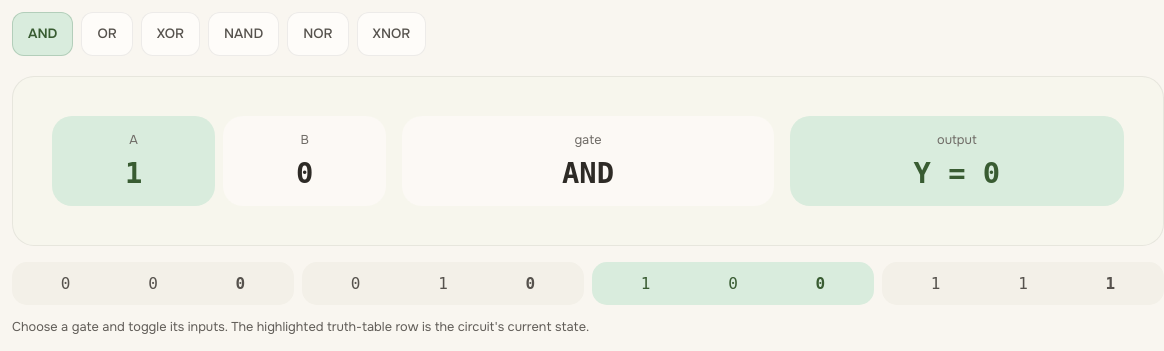
Test: SystemsDiagram › recomputes a logic gate when either input changes
Click the tab "XOR" at (170, 34), box [141,12,200,56]
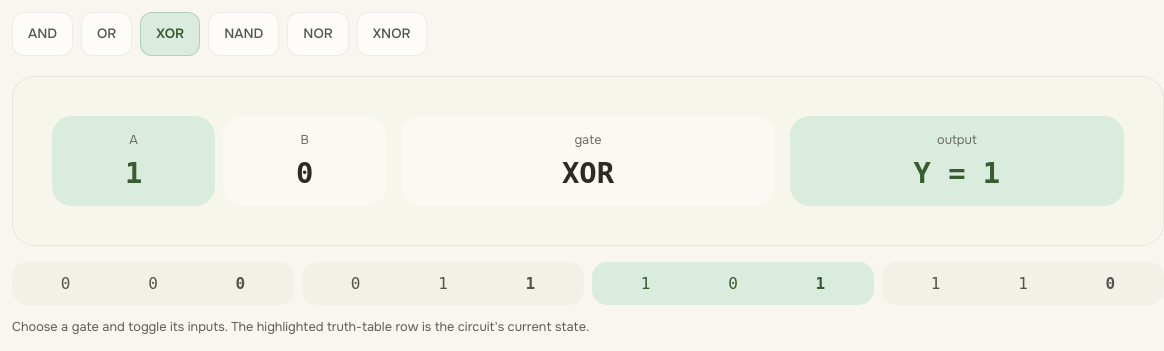
Check: the text "Y = 1" is shown, box [914,156,1000,190]
Click the button named "Input B is 0" at (305, 161), box [223,116,386,206]
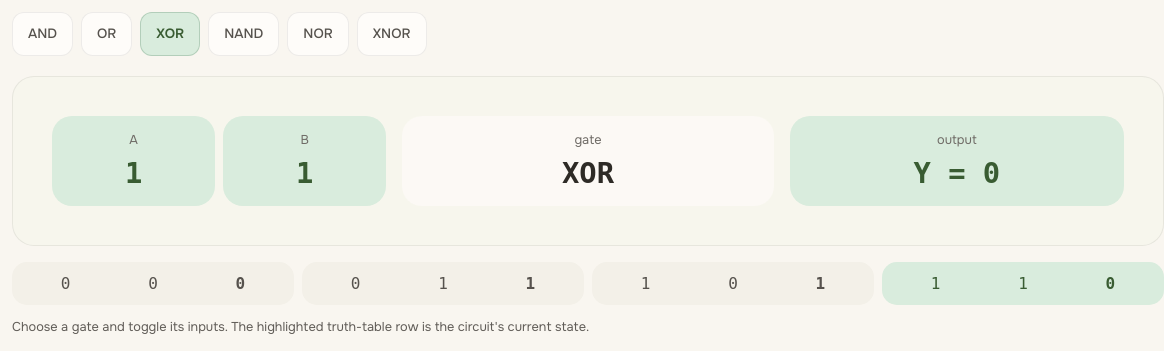
Check: the text "Y = 0" is shown, box [914,156,1000,190]
